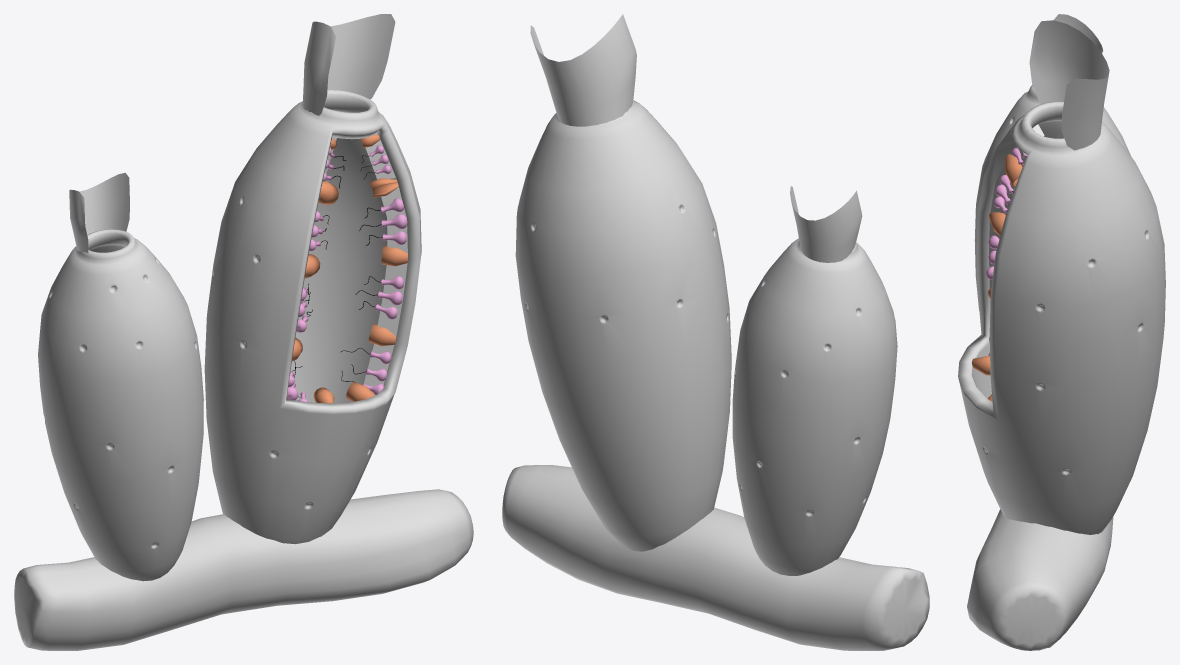
Rendered from Sycon.fbx.
3 views of the same model, side by side, from view 1: azimuth 30°, elevation 25°; view 2: azimuth 150°, elevation 25°; view 3: azimuth 270°, elevation 25° (orthographic). The views are drawn at different scales.
Parts seen in each view (by area): view 1: Sycon, Sycon.001, Sycone, osculum, Osculum, Coller Cells.018, Pore, Mesohyl; view 2: Sycon, Sycon.001, Sycone, osculum, Osculum; view 3: Sycon, Sycone, osculum, Sycon.001, Pore, Coller Cells.018, Mesohyl, Osculum.
Part boxes in pixels (x1,y1,x2,y2): Sycon: (204, 90, 421, 544); Sycon.001: (38, 229, 203, 581); Sycone: (14, 489, 473, 650); osculum: (302, 14, 395, 115); Osculum: (69, 172, 129, 252); Coller Cells.018: (286, 145, 407, 401); Pore: (292, 134, 407, 403); Mesohyl: (317, 132, 407, 394); Sycon: (515, 100, 731, 551); Sycon.001: (732, 238, 897, 575); Sycone: (502, 465, 929, 650); osculum: (530, 14, 636, 126); Osculum: (790, 186, 862, 262); Sycon: (958, 101, 1165, 534); Sycone: (967, 509, 1113, 650); osculum: (1029, 20, 1109, 150); Sycon.001: (974, 85, 1130, 310); Pore: (972, 154, 1023, 401); Coller Cells.018: (986, 145, 1026, 355); Mesohyl: (989, 124, 1044, 288); Osculum: (1054, 14, 1103, 53).
Size of the model in its own units: 621 by 801 by 254.
